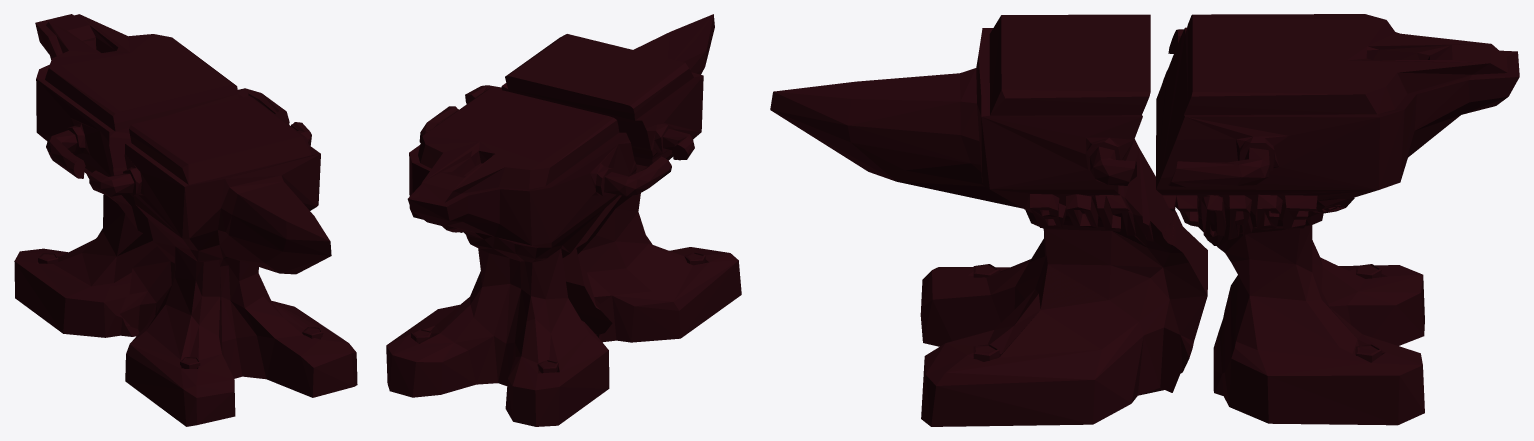
The model's file is anvil.glb.
3 renders of one model, left to right at view 1: azimuth 30°, elevation 25°; view 2: azimuth 150°, elevation 25°; view 3: azimuth 270°, elevation 25°, orthographic. The views are drawn at different scales.
Parts seen in each view (by area): view 1: Anvil_low.001; view 2: Anvil_low.001; view 3: Anvil_low.001.
Part boxes in pixels (x1=…): Anvil_low.001: x1=14, y1=14, x2=357, y2=426; Anvil_low.001: x1=386, y1=14, x2=741, y2=426; Anvil_low.001: x1=770, y1=14, x2=1519, y2=426.
Size of the model in its own units: 2.56 by 2.69 by 5.69.
